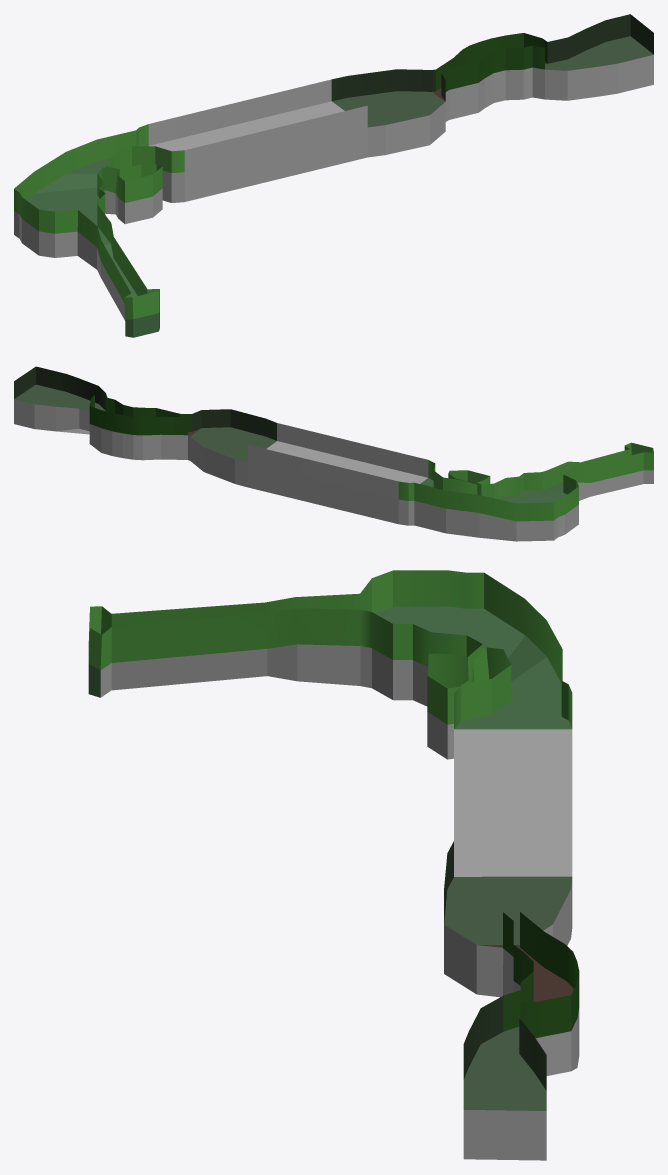
The picture shows the model from 3 angles, top to bottom: view 1: azimuth 30°, elevation 25°; view 2: azimuth 150°, elevation 25°; view 3: azimuth 270°, elevation 25°; orthographic projection. The views are drawn at different scales.
Parts seen in each view (by area): view 1: Ground, Walls; view 2: Ground, Walls; view 3: Ground, Walls.
Part boxes in pixels (box(x1,y1,x2,y2)): Ground: box(14, 36, 653, 337); Walls: box(14, 14, 653, 319); Ground: box(14, 384, 653, 541); Walls: box(14, 366, 653, 521); Ground: box(88, 606, 579, 1160); Walls: box(88, 570, 579, 1090).
Size of the model in its own units: 28525 by 2853 by 11456.
